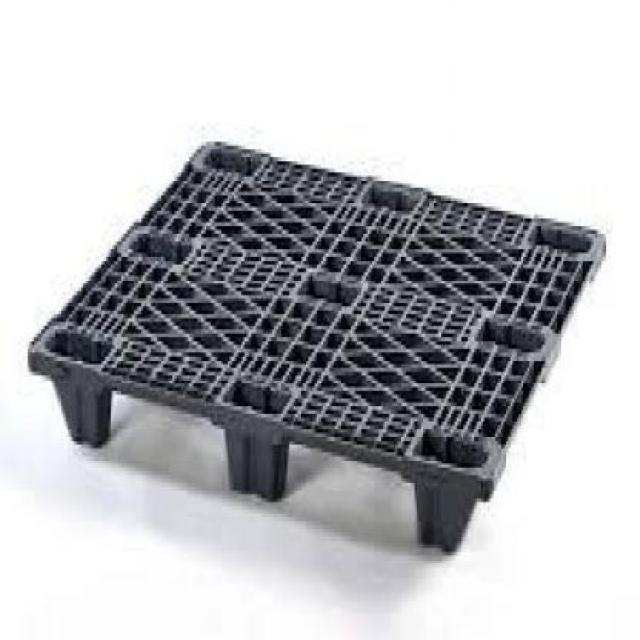pallet: (15, 111, 620, 571)
